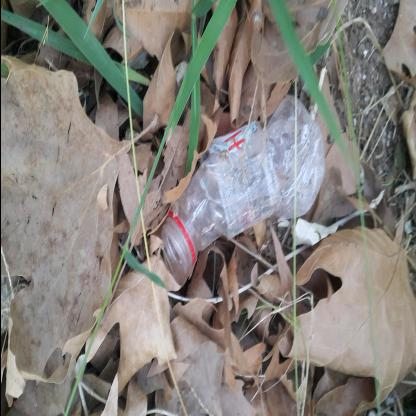plastik: (92, 92, 276, 256)
